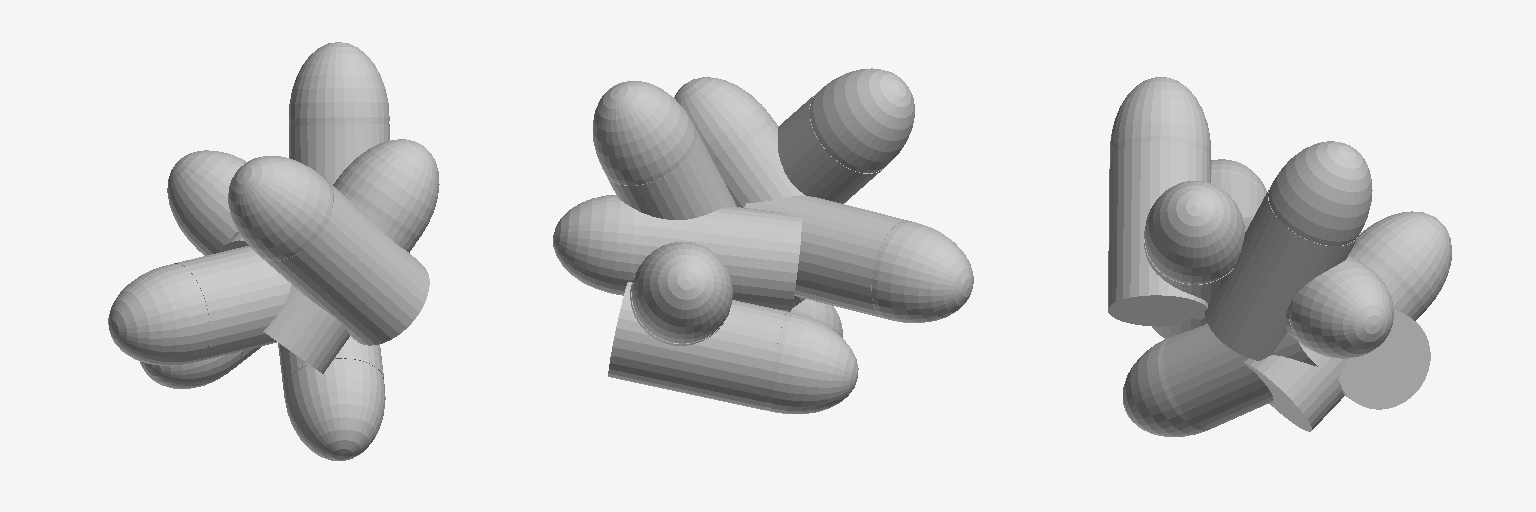
File: Upgrade.obj
The picture shows the model from 3 angles: view 1: azimuth 30°, elevation 25°; view 2: azimuth 150°, elevation 25°; view 3: azimuth 270°, elevation 25°; orthographic projection.
Parts seen in each view (by area): view 1: Cylinder.002, Sphere.001, Sphere, Sphere.004, Cylinder.001, Sphere.003, Sphere.006, Sphere.007, Cylinder.004, Cylinder.007, Sphere.005, Cylinder.005; view 2: Cylinder.006, Cylinder.003, Cylinder.001, Sphere.001, Sphere.006, Sphere.007, Sphere, Sphere.005, Sphere.002, Cylinder.007, Sphere.003, Cylinder.002 (+2 smaller); view 3: Cylinder.002, Cylinder.007, Sphere.006, Sphere.003, Cylinder.005, Sphere.002, Sphere.007, Cylinder.008, Cylinder.006, Sphere.001, Sphere.004, Cylinder.004 (+2 smaller).
Part boxes in pixels (left/top/right/bottom): Cylinder.002: left=260, top=179, right=429, bottom=345; Sphere.001: left=228, top=156, right=332, bottom=260; Sphere: left=108, top=264, right=209, bottom=365; Sphere.004: left=284, top=358, right=385, bottom=460; Cylinder.001: left=174, top=246, right=290, bottom=361; Sphere.003: left=334, top=139, right=439, bottom=241; Sphere.006: left=289, top=42, right=389, bottom=125; Sphere.007: left=167, top=150, right=246, bottom=254; Cylinder.004: left=263, top=184, right=415, bottom=373; Cylinder.007: left=289, top=124, right=389, bottom=184; Sphere.005: left=140, top=351, right=242, bottom=388; Cylinder.005: left=278, top=336, right=383, bottom=389; Cylinder.006: left=608, top=282, right=786, bottom=410; Cylinder.003: left=635, top=206, right=801, bottom=311; Cylinder.001: left=744, top=195, right=911, bottom=318; Sphere.001: left=810, top=68, right=914, bottom=173; Sphere.006: left=593, top=81, right=696, bottom=185; Sphere.007: left=632, top=242, right=732, bottom=343; Sphere: left=872, top=221, right=973, bottom=322; Sphere.005: left=766, top=312, right=858, bottom=413; Sphere.002: left=553, top=195, right=641, bottom=295; Cylinder.007: left=606, top=126, right=736, bottom=219; Sphere.003: left=674, top=77, right=774, bottom=164; Cylinder.002: left=778, top=91, right=882, bottom=203; Cylinder.002: left=1108, top=142, right=1210, bottom=326; Cylinder.007: left=1205, top=188, right=1359, bottom=360; Sphere.006: left=1268, top=141, right=1372, bottom=245; Sphere.003: left=1144, top=181, right=1244, bottom=284; Cylinder.005: left=1163, top=323, right=1318, bottom=427; Sphere.002: left=1289, top=257, right=1393, bottom=358; Sphere.007: left=1353, top=211, right=1451, bottom=314; Cylinder.008: left=1243, top=247, right=1420, bottom=431; Cylinder.006: left=1338, top=311, right=1430, bottom=409; Sphere.001: left=1110, top=77, right=1210, bottom=155; Sphere.004: left=1123, top=337, right=1211, bottom=436; Cylinder.004: left=1144, top=239, right=1233, bottom=338.
Bounding box in the file's own units: 0.6058 × 0.5527 × 0.5251.